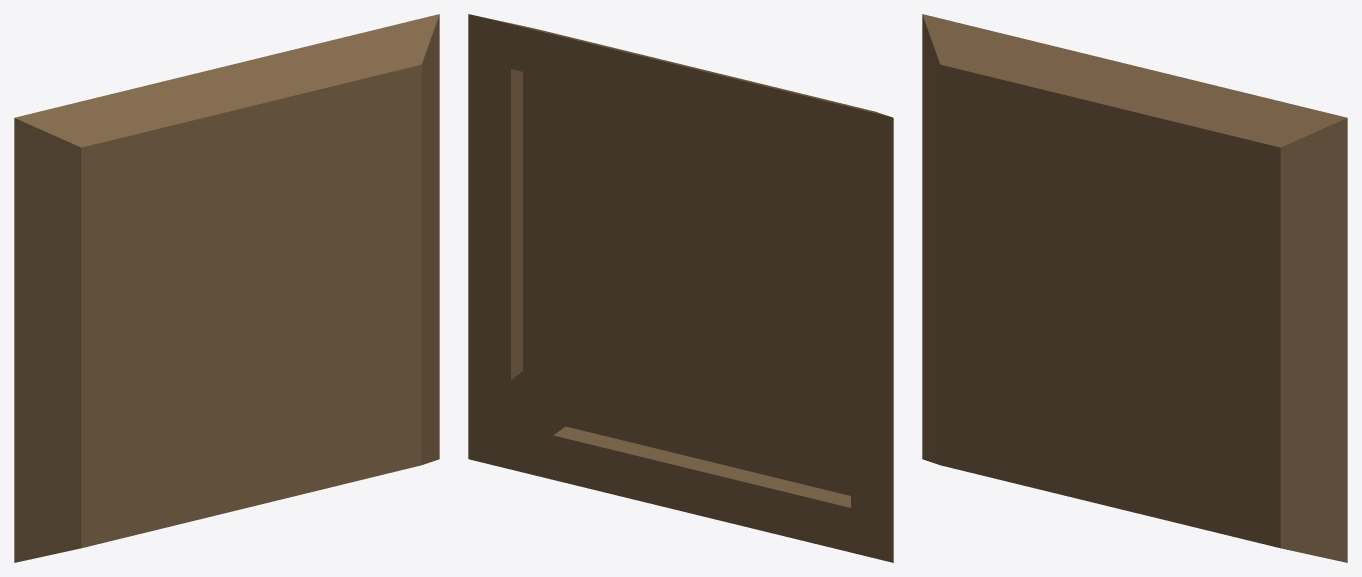
The model's file is crate_face03_broken.fbx.
3 renders of one model, left to right at view 1: azimuth 30°, elevation 25°; view 2: azimuth 150°, elevation 25°; view 3: azimuth 330°, elevation 25°, orthographic.
Visible parts, largest first — view 1: crateFace035, crateFace039, crateFace040, crateFace042, crateFace038, crateFace041, crateFace033, crateFace037, crateFace036, crateFace031, crateFace034, crateFace032; view 2: crateFace039, crateFace040, crateFace038, crateFace037, crateFace035, crateFace031, crateFace042, crateFace036, crateFace032, crateFace041, crateFace034; view 3: crateFace040, crateFace035, crateFace042, crateFace039, crateFace038, crateFace041, crateFace033, crateFace031, crateFace037, crateFace032, crateFace036.
Part boxes in pixels (x1=…): crateFace035: x1=31, y1=71, x2=274, y2=345; crateFace039: x1=14, y1=328, x2=232, y2=546; crateFace040: x1=248, y1=14, x2=439, y2=275; crateFace042: x1=243, y1=221, x2=435, y2=459; crateFace038: x1=232, y1=317, x2=422, y2=510; crateFace041: x1=14, y1=103, x2=112, y2=241; crateFace033: x1=44, y1=489, x2=233, y2=555; crateFace037: x1=14, y1=61, x2=253, y2=335; crateFace036: x1=14, y1=106, x2=61, y2=216; crateFace031: x1=435, y1=215, x2=439, y2=414; crateFace034: x1=14, y1=513, x2=47, y2=562; crateFace032: x1=422, y1=404, x2=439, y2=464; crateFace039: x1=703, y1=302, x2=893, y2=551; crateFace040: x1=468, y1=14, x2=680, y2=250; crateFace038: x1=504, y1=289, x2=713, y2=516; crateFace037: x1=659, y1=61, x2=893, y2=332; crateFace035: x1=667, y1=62, x2=850, y2=316; crateFace031: x1=468, y1=214, x2=680, y2=430; crateFace042: x1=517, y1=215, x2=671, y2=375; crateFace036: x1=846, y1=106, x2=893, y2=216; crateFace032: x1=468, y1=404, x2=521, y2=471; crateFace041: x1=834, y1=102, x2=893, y2=239; crateFace034: x1=846, y1=513, x2=893, y2=562; crateFace040: x1=1134, y1=71, x2=1347, y2=323; crateFace035: x1=926, y1=40, x2=1149, y2=318; crateFace042: x1=1103, y1=287, x2=1330, y2=543; crateFace039: x1=922, y1=229, x2=1091, y2=479; crateFace038: x1=1091, y1=313, x2=1283, y2=548; crateFace041: x1=922, y1=25, x2=982, y2=142; crateFace033: x1=930, y1=443, x2=1092, y2=502; crateFace031: x1=1331, y1=318, x2=1347, y2=514; crateFace037: x1=922, y1=28, x2=1155, y2=235; crateFace032: x1=1281, y1=507, x2=1347, y2=562; crateFace036: x1=922, y1=14, x2=969, y2=111.
Bounding box in the file's own units: 40 × 40 × 4.
